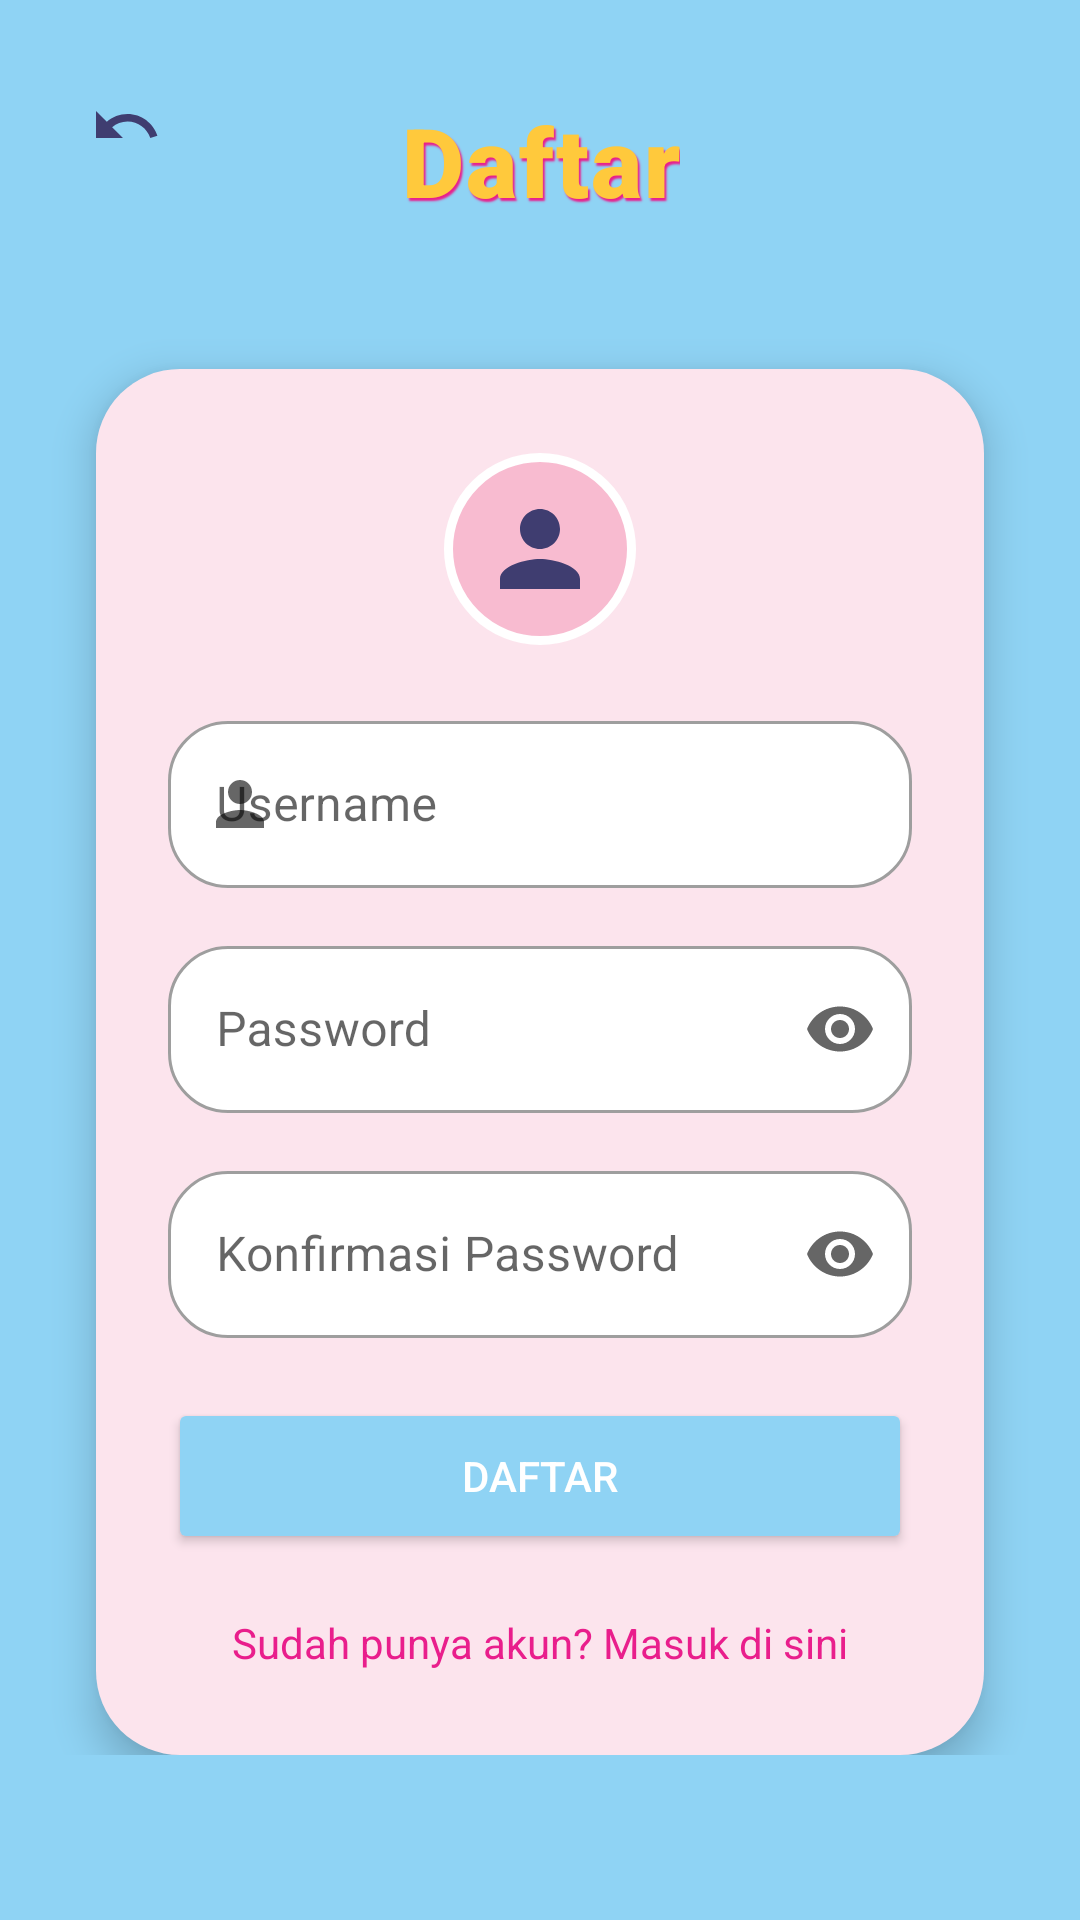

Icon click points for this 1080 × 1920 phone screenshot, format (x,y):
person: (540,549)
Sebelumnya: (127,124)
